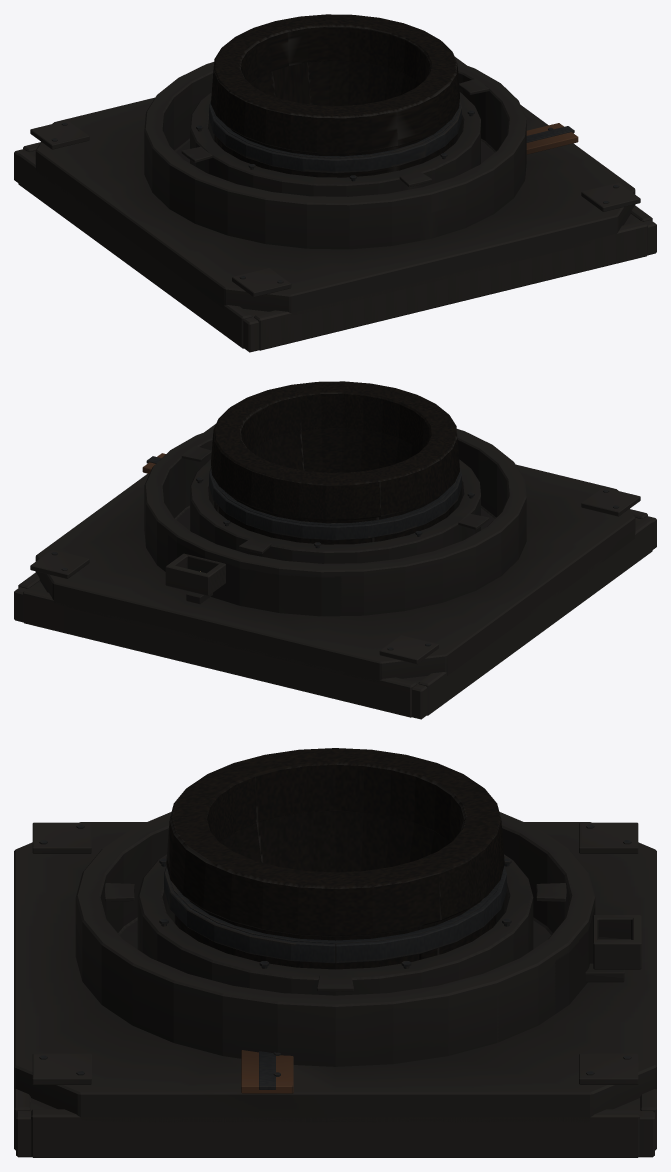
Rendered from massline_core_lod0.glb.
The picture shows the model from 3 angles, top to bottom: view 1: azimuth 30°, elevation 25°; view 2: azimuth 150°, elevation 25°; view 3: azimuth 270°, elevation 25°; orthographic projection. The views are drawn at different scales.
Visible parts, largest first — view 1: LOD0_massline_core, LOD0_massline_core_spin; view 2: LOD0_massline_core, LOD0_massline_core_spin, LOD0_massline_core_lamp; view 3: LOD0_massline_core, LOD0_massline_core_spin, LOD0_massline_core_lamp.
Boxes of the visible parts, bbox=[...] form: LOD0_massline_core: bbox=[14, 14, 656, 352]; LOD0_massline_core_spin: bbox=[209, 100, 461, 173]; LOD0_massline_core: bbox=[14, 381, 656, 719]; LOD0_massline_core_spin: bbox=[209, 467, 461, 540]; LOD0_massline_core_lamp: bbox=[165, 553, 225, 604]; LOD0_massline_core: bbox=[14, 748, 656, 1157]; LOD0_massline_core_spin: bbox=[164, 866, 506, 963]; LOD0_massline_core_lamp: bbox=[585, 915, 641, 982].
Size of the model in its own units: 2.11 by 0.735 by 2.08.
Materials: 1 (1 with a texture image).
